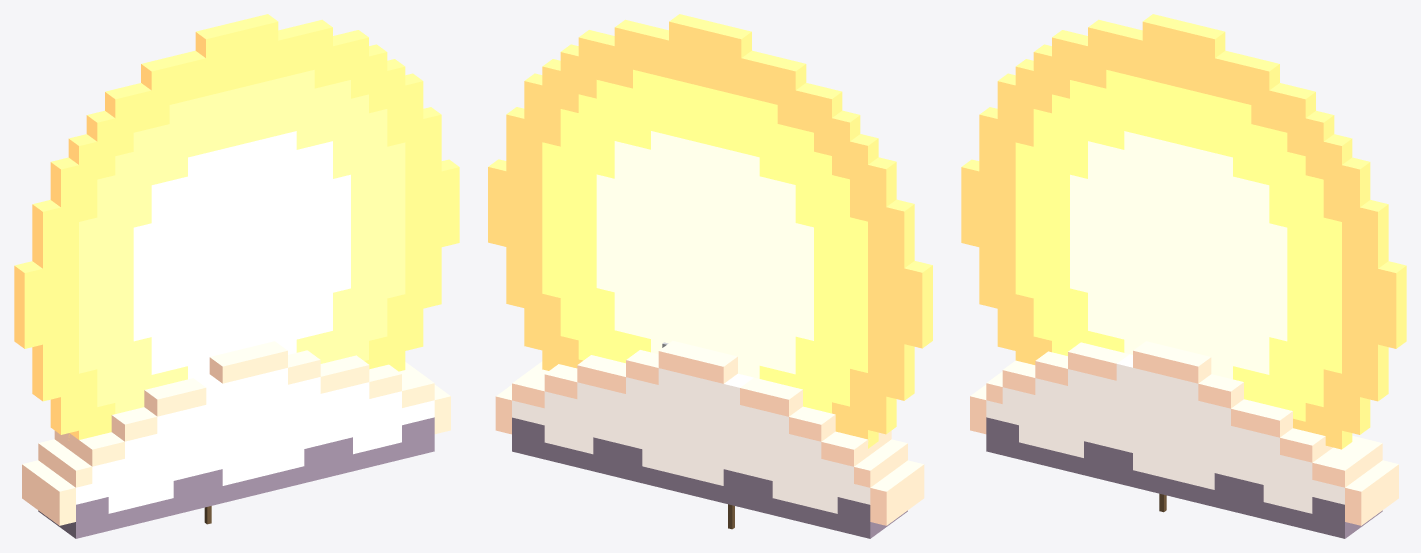
Rendered from voxdome.glb.
3 views of the same model, side by side, from view 1: azimuth 30°, elevation 25°; view 2: azimuth 150°, elevation 25°; view 3: azimuth 330°, elevation 25° (orthographic).
Parts seen in each view (by area): view 1: VD_Sun, VD_Cloud; view 2: VD_Sun, VD_Cloud; view 3: VD_Sun, VD_Cloud.
Boxes of the visible parts, bbox=[...] form: VD_Sun: bbox=[14, 14, 459, 439]; VD_Cloud: bbox=[22, 341, 450, 538]; VD_Sun: bbox=[488, 14, 932, 448]; VD_Cloud: bbox=[495, 340, 924, 538]; VD_Sun: bbox=[961, 14, 1406, 449]; VD_Cloud: bbox=[970, 341, 1398, 538].
Size of the model in its own units: 24 by 26 by 3.6.
